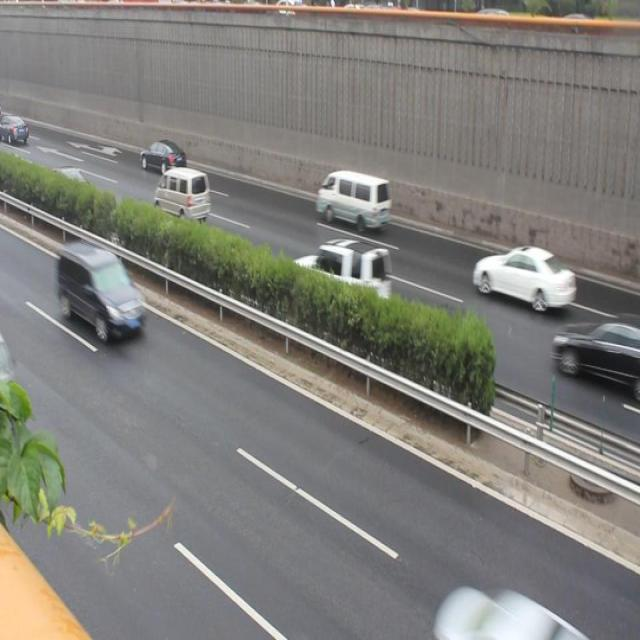car: (288, 233, 392, 313), (472, 239, 575, 309), (554, 315, 640, 387), (40, 161, 91, 209), (141, 134, 186, 172)
truck: (56, 238, 143, 336), (316, 165, 391, 228), (154, 162, 211, 220)
